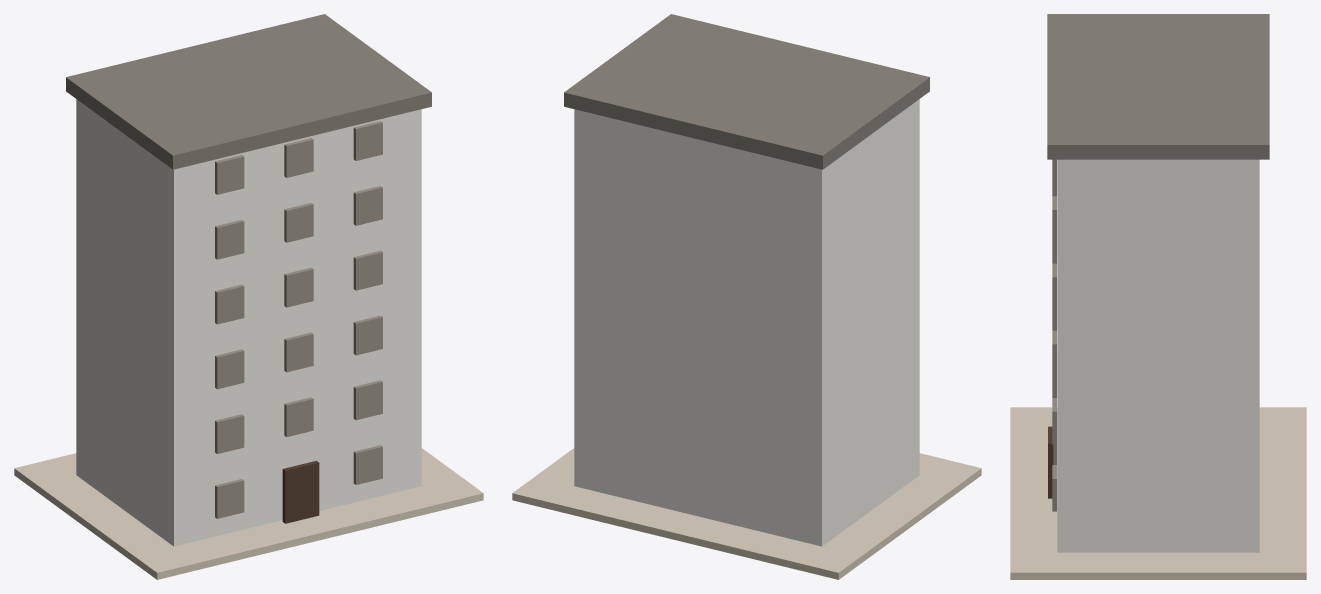
The model's file is clay-condo.glb.
3 renders of one model, left to right at view 1: azimuth 30°, elevation 25°; view 2: azimuth 150°, elevation 25°; view 3: azimuth 270°, elevation 25°, orthographic. The views are drawn at different scales.
Parts seen in each view (by area): view 1: Clay walls, Flat roof, Site boundary, Entry, Window 1-2, Window 2-2, Window 3-0, Window 3-1, Window 4-0, Window 4-1, Window 5-1, Window 0-0 (+9 smaller); view 2: Clay walls, Flat roof, Site boundary; view 3: Clay walls, Flat roof, Site boundary.
Boxes of the visible parts, x1=… form: Clay walls: x1=76, y1=99, x2=421, y2=546; Flat roof: x1=66, y1=14, x2=431, y2=169; Site boundary: x1=14, y1=448, x2=483, y2=579; Entry: x1=282, y1=460, x2=319, y2=523; Window 1-2: x1=353, y1=380, x2=382, y2=420; Window 2-2: x1=353, y1=315, x2=382, y2=355; Window 3-0: x1=215, y1=284, x2=244, y2=324; Window 3-1: x1=284, y1=267, x2=313, y2=307; Window 4-0: x1=215, y1=220, x2=244, y2=259; Window 4-1: x1=284, y1=203, x2=313, y2=242; Window 5-1: x1=284, y1=138, x2=313, y2=177; Window 0-0: x1=215, y1=479, x2=244, y2=518; Clay walls: x1=574, y1=99, x2=919, y2=546; Flat roof: x1=564, y1=14, x2=929, y2=169; Site boundary: x1=512, y1=448, x2=981, y2=579; Clay walls: x1=1057, y1=159, x2=1259, y2=552; Flat roof: x1=1047, y1=14, x2=1269, y2=159; Site boundary: x1=1010, y1=407, x2=1306, y2=579.
Bounding box in the file's own units: 2.9 × 3.42 × 2.2.
